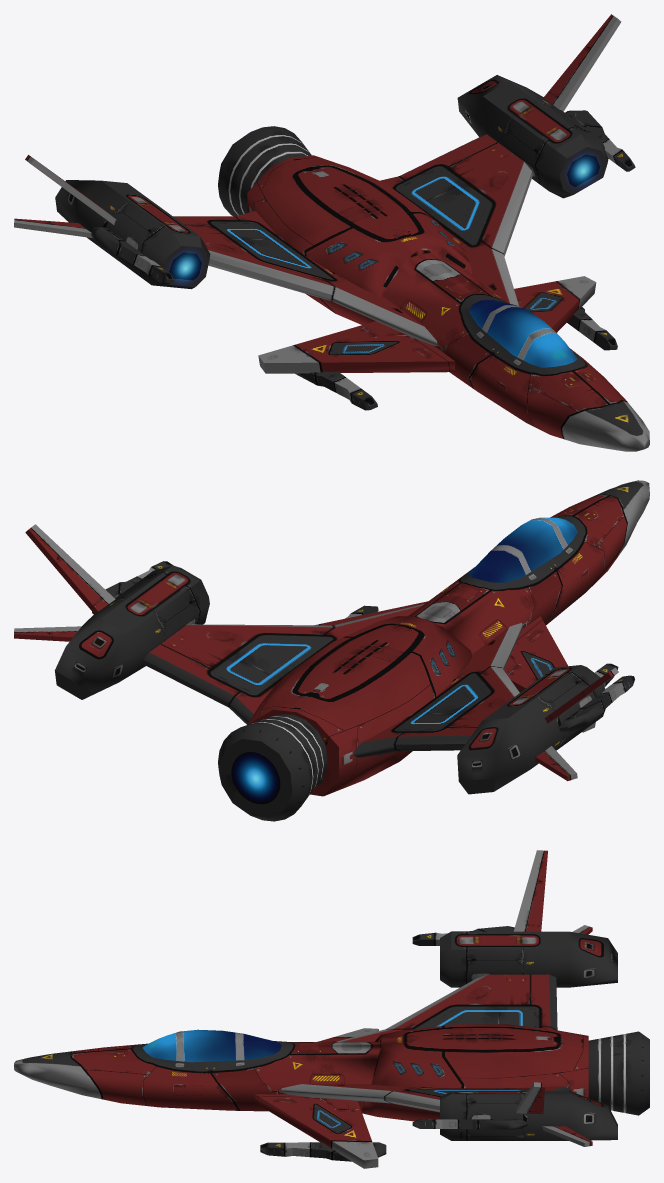
Rendered from better-noAni-posi-draco.glb.
3 views of the same model, one above another, from view 1: azimuth 30°, elevation 25°; view 2: azimuth 150°, elevation 25°; view 3: azimuth 270°, elevation 25° (orthographic). The views are drawn at different scales.
Visible parts, largest first — view 1: StarSparrow_Wing.002; view 2: StarSparrow_Wing.002; view 3: StarSparrow_Wing.002.
Boxes of the visible parts, x1=… form: StarSparrow_Wing.002: x1=14, y1=14, x2=649, y2=451; StarSparrow_Wing.002: x1=14, y1=480, x2=649, y2=821; StarSparrow_Wing.002: x1=14, y1=850, x2=649, y2=1168.
Size of the model in its own units: 9.43 by 2.73 by 10.78.
Materials: 1 (1 with a texture image).
